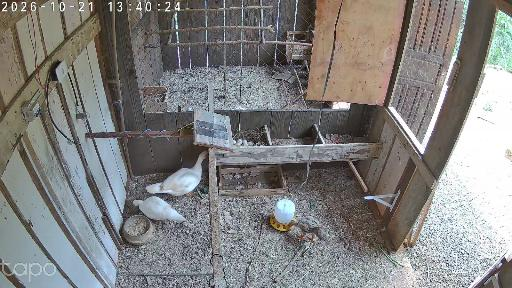frango: (289, 215, 332, 244)
ovos: (233, 138, 254, 148)
pato: (144, 150, 209, 197), (132, 196, 186, 227)
